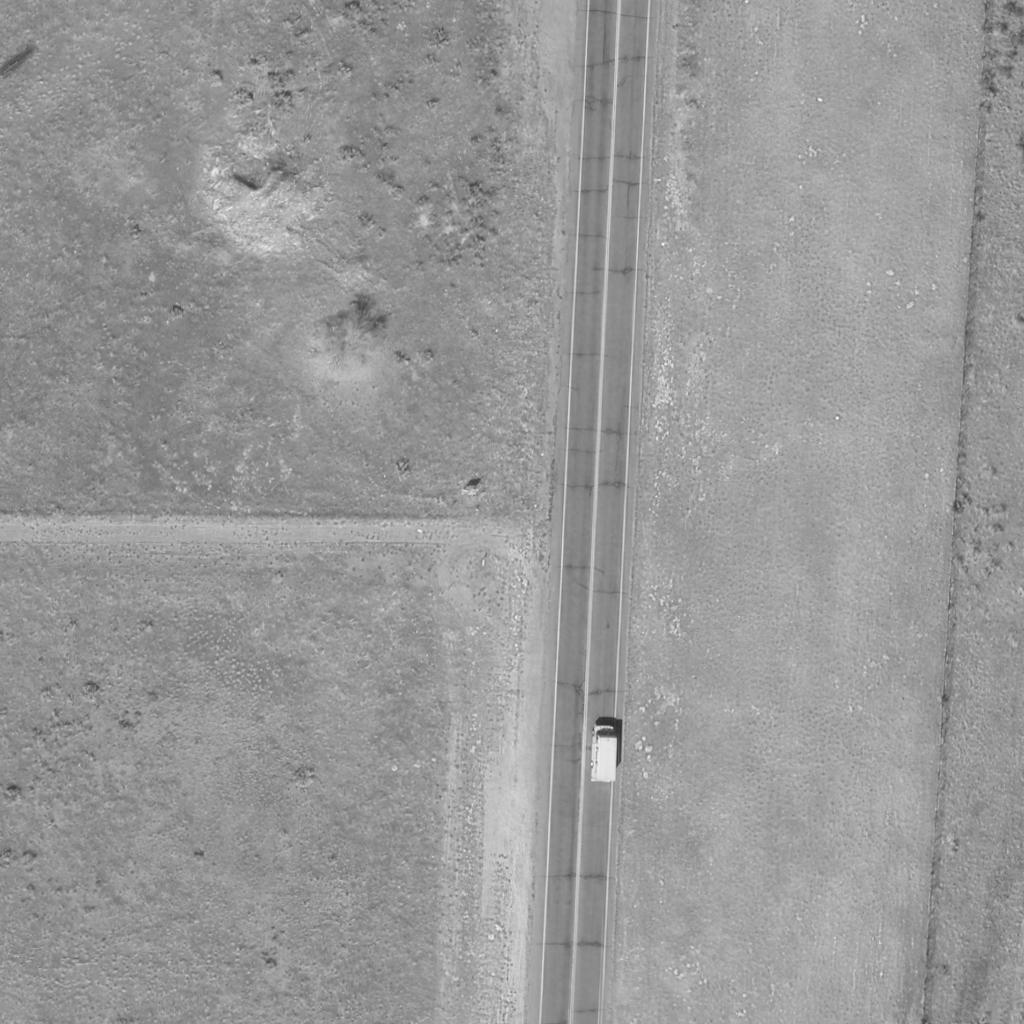vehicle: (591, 726, 617, 784)
